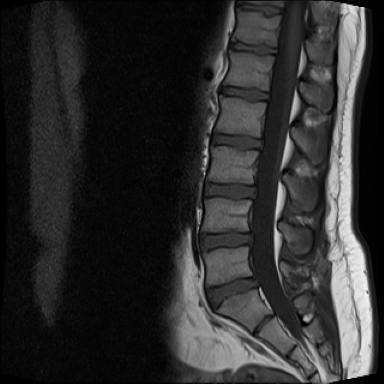Lumbar Disc Bulge (LDB): (198, 267, 261, 314), (190, 223, 260, 256)
Normal IVD: (199, 175, 259, 206), (204, 126, 263, 154), (214, 79, 272, 104), (229, 39, 278, 59), (233, 1, 286, 13)
